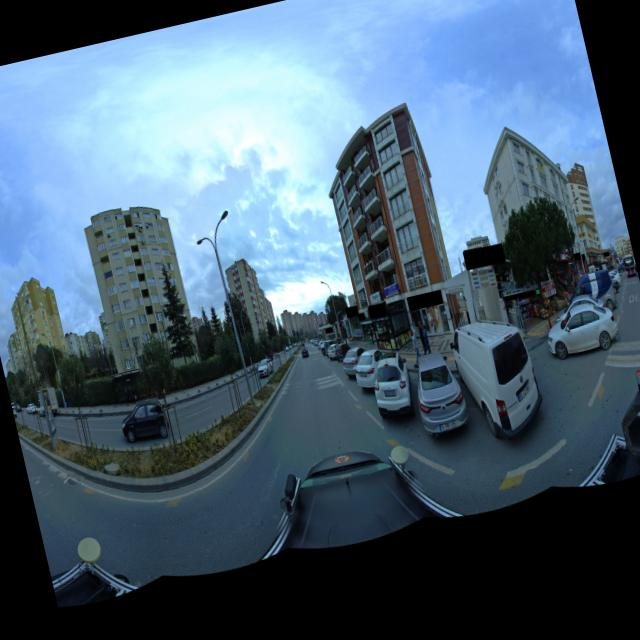SignStore: (462, 246, 504, 270), (407, 289, 443, 309), (504, 289, 535, 301), (368, 302, 386, 318), (346, 305, 358, 318), (573, 253, 581, 260), (358, 312, 365, 320), (325, 327, 333, 333), (581, 254, 585, 260), (603, 252, 609, 256), (339, 324, 341, 327)
